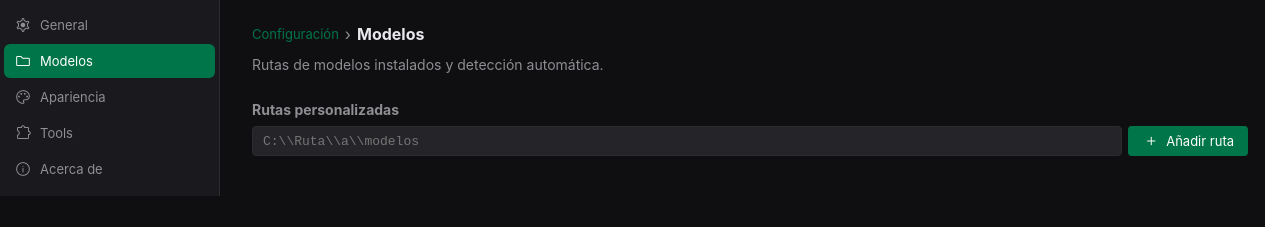
Test: SettingsView › renders General tab
Click the button titled "General". click: (110, 25)
box: x1=4 y1=8 x2=215 y2=42
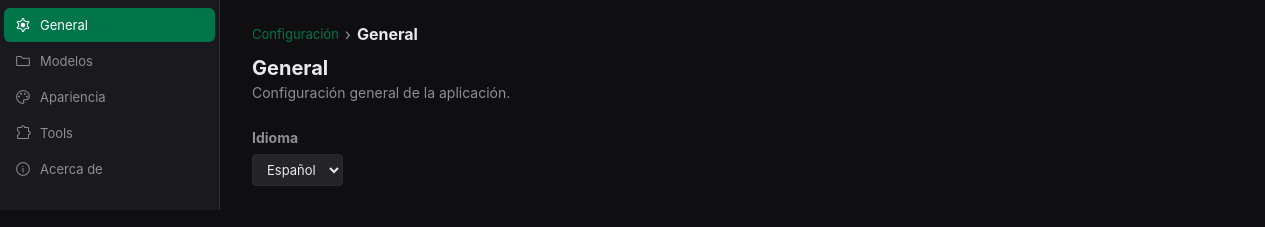
Now the heading "Idioma" is shown, box x1=252 y1=129 x2=298 y2=146
